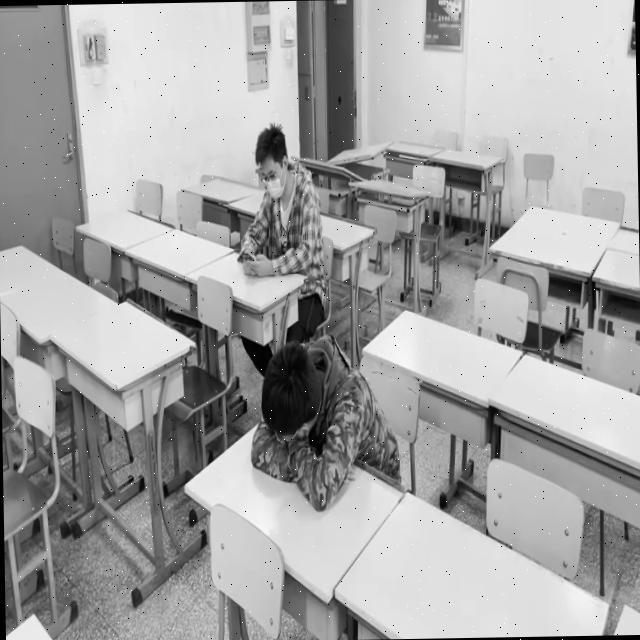phone: (238, 135, 315, 275)
sleep: (248, 340, 375, 513)
